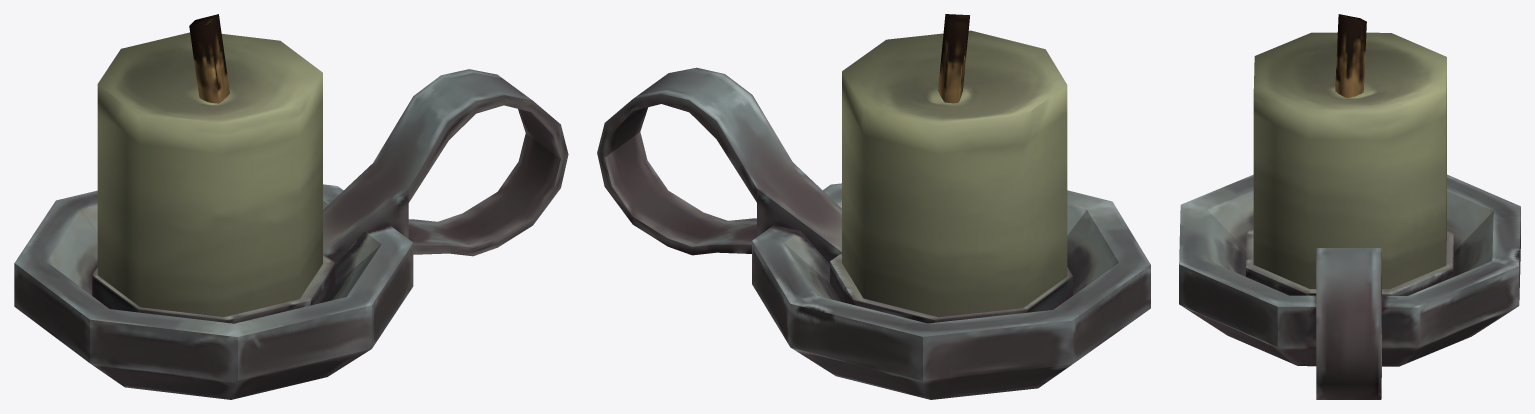
Rendered from small_candle.fbx.
3 views of the same model, side by side, from view 1: azimuth 30°, elevation 25°; view 2: azimuth 150°, elevation 25°; view 3: azimuth 270°, elevation 25° (orthographic). The views are drawn at different scales.
Visible parts, largest first — view 1: Candlestick; view 2: Candlestick; view 3: Candlestick.
Boxes of the visible parts, box(x1,y1,x2,y2) form: Candlestick: box(14, 14, 568, 399); Candlestick: box(597, 14, 1150, 399); Candlestick: box(1179, 14, 1520, 399).
Size of the model in its own units: 0.1525 by 0.0947 by 0.0989.
